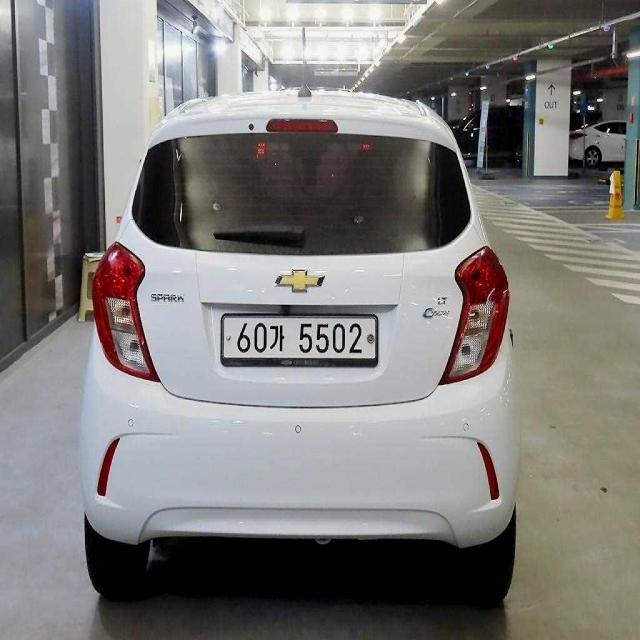car: (74, 78, 529, 621)
illegal_plate: (220, 310, 382, 370)
